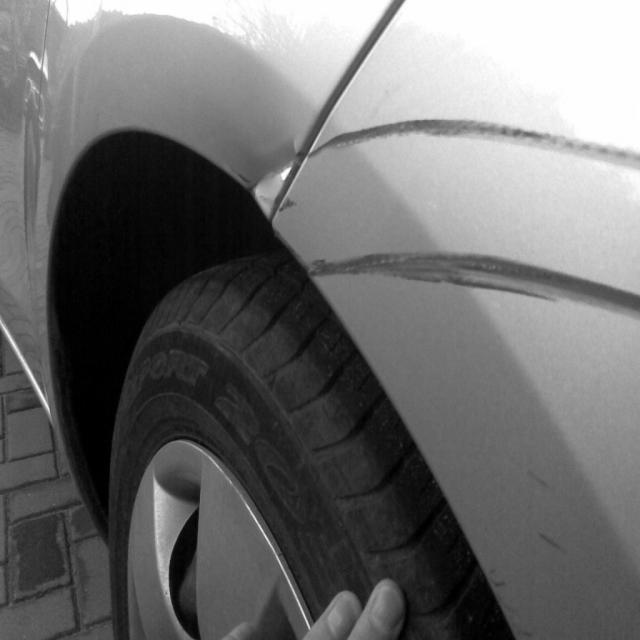dent: (224, 136, 305, 217)
scratch: (306, 247, 640, 311), (301, 117, 640, 173), (278, 195, 299, 215), (235, 170, 254, 184)
